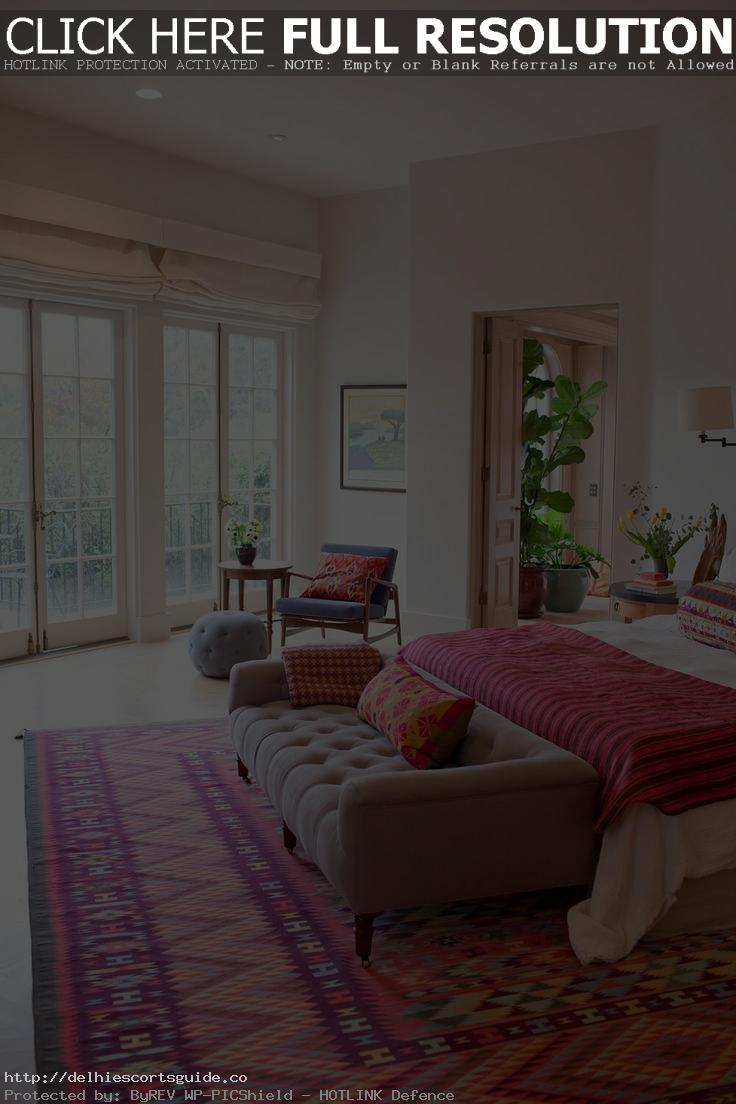chairs: (283, 542, 407, 665)
